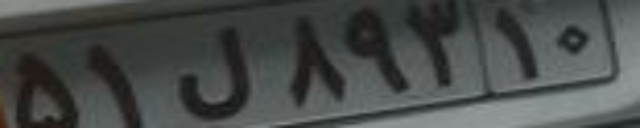0: (551, 23, 594, 55)
1: (83, 42, 147, 127), (489, 5, 537, 78)
3: (405, 0, 465, 88)
5: (10, 51, 80, 127)
8: (283, 15, 348, 104)
9: (345, 7, 410, 92)
lam: (177, 24, 256, 121)
